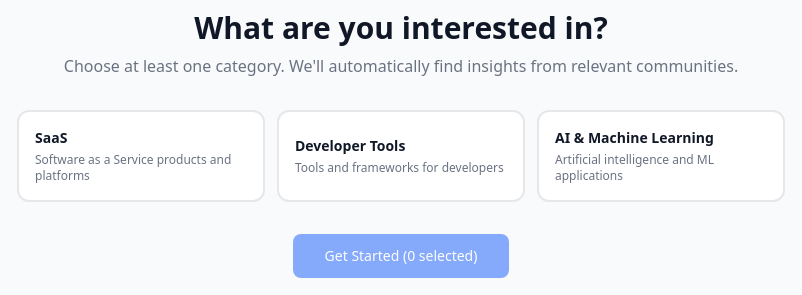
Test: Onboarding › submit button enabled after selecting a category
Click the text "SaaS" at (51, 138), box [35,128,67,147]
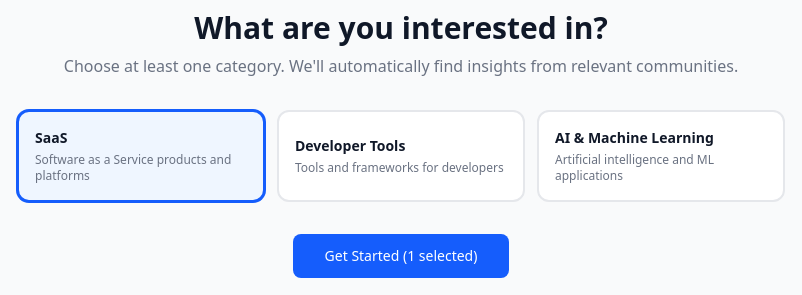
expect the button "Get Started (1 selected)" is enabled: met, box [293,234,509,278]
